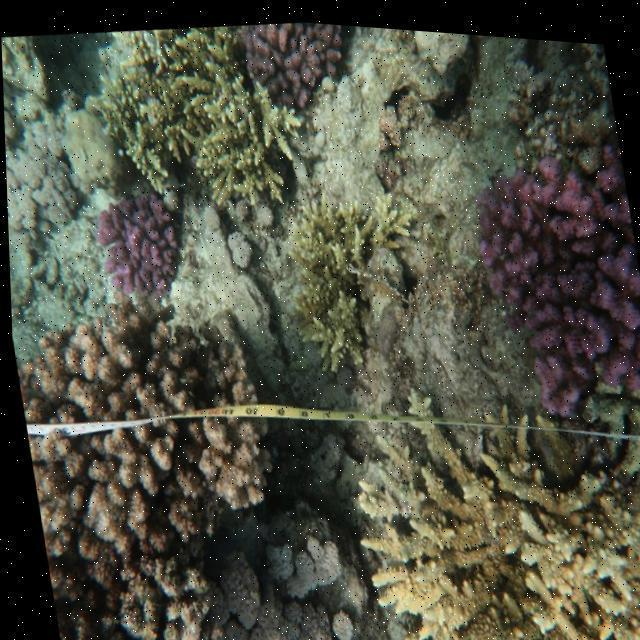Healthy Coral: (459, 122, 640, 426), (236, 14, 357, 110), (92, 185, 184, 310)
